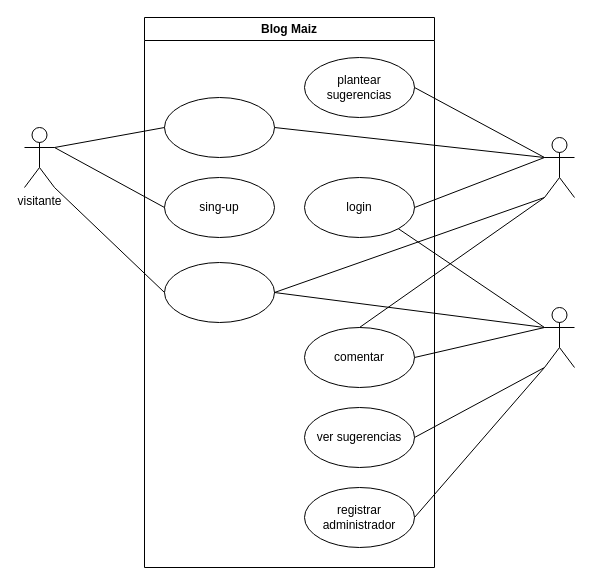
Some shapes in this 613 by 585 pixel diagram are drawn without their labels. The centre of each missing label's shape, as x and y in pixels:
administrador: point (559, 337)
usuario: point (559, 167)
ver comentarios: point (219, 292)
visualizar blogs: point (219, 127)
